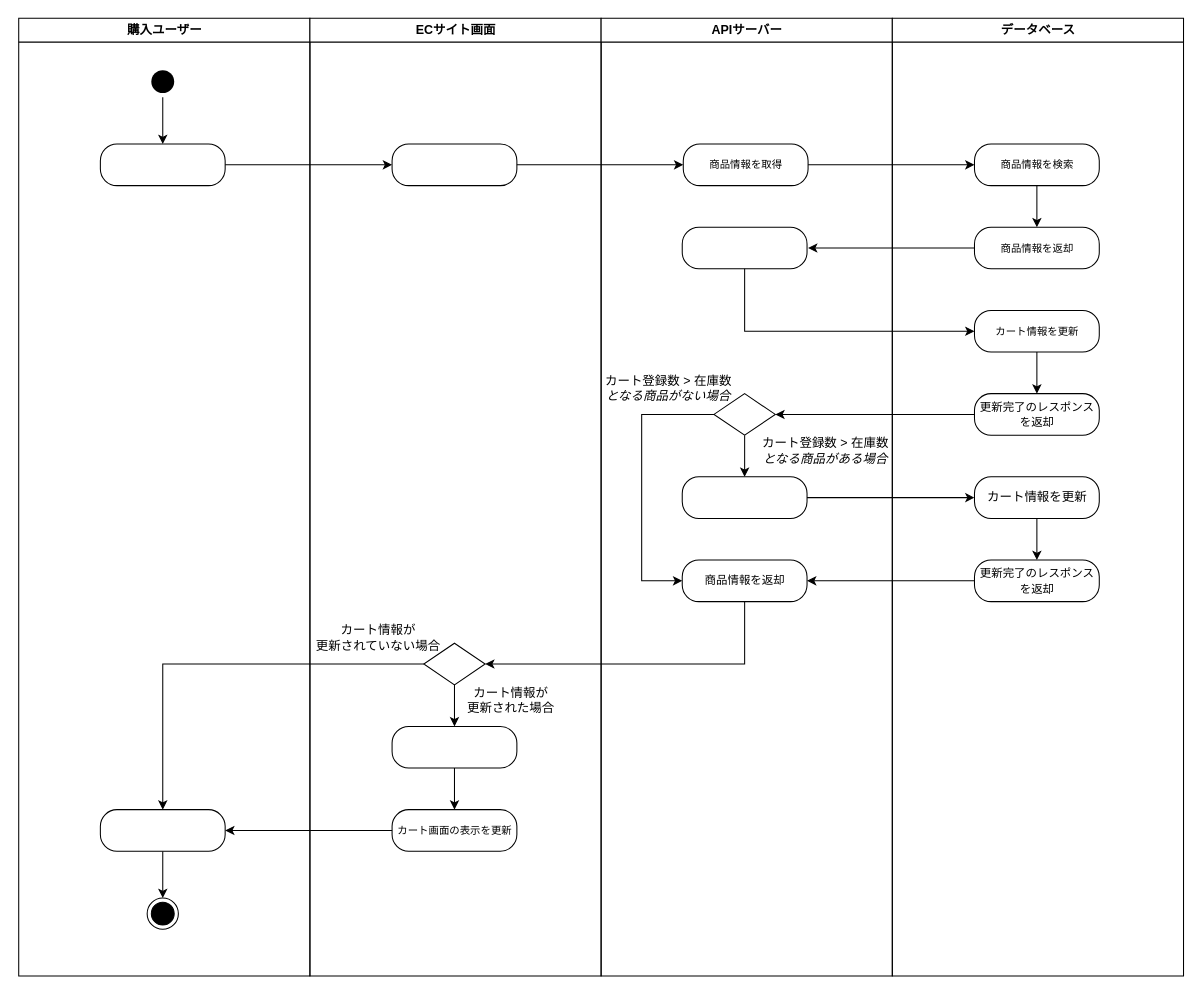
This 1201x994 diagram has some shape labels left out. The shapes that lost their labels are listed below. From the top down, each one's centre as x and y in pixels, then its label:
At point 162,164: "カート画面にアクセス".
At point 454,164: "カートに入っている商品の情報を取得するAPIを リクエスト".
At point 744,247: "在庫が無い商品を カートから削除".
At point 744,497: "カート登録数を在庫の 最大数に更新".
At point 454,746: "カート情報を変更・削除した メッセージを表示".
At point 162,830: "画面の表示を確認".
